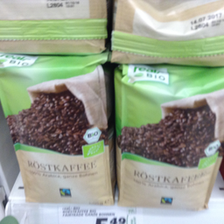chocolate: (1, 54, 111, 205), (113, 65, 224, 212)
